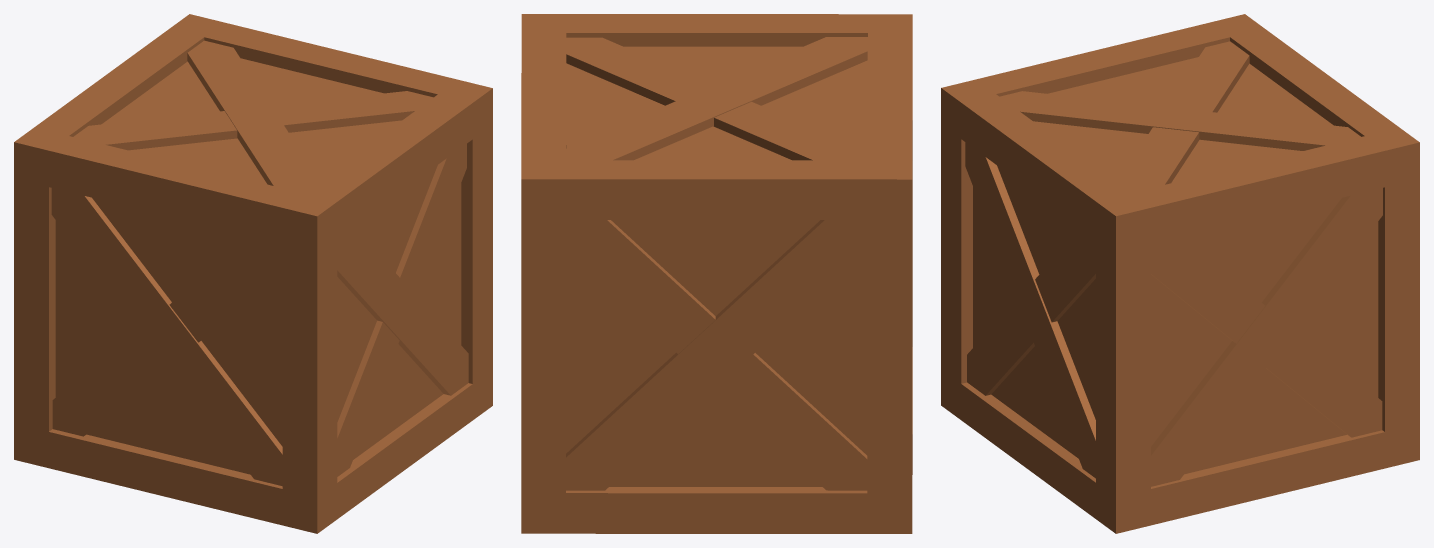
File: Wooden_Box.fbx
The picture shows the model from 3 angles, left to right: view 1: azimuth 30°, elevation 25°; view 2: azimuth 150°, elevation 25°; view 3: azimuth 270°, elevation 25°; orthographic projection. The views are drawn at different scales.
Visible parts, largest first — view 1: Wooden_Box; view 2: Wooden_Box; view 3: Wooden_Box.
Part boxes in pixels (bbox=[...]): Wooden_Box: bbox=[14, 14, 492, 533]; Wooden_Box: bbox=[521, 14, 912, 533]; Wooden_Box: bbox=[941, 14, 1419, 533].
Size of the model in its own units: 304 by 223 by 304.
